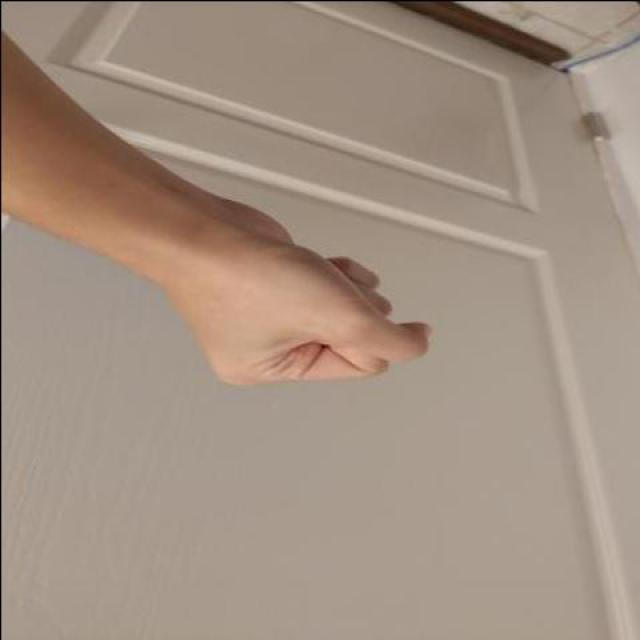Closed Hand: (188, 201, 431, 387)
